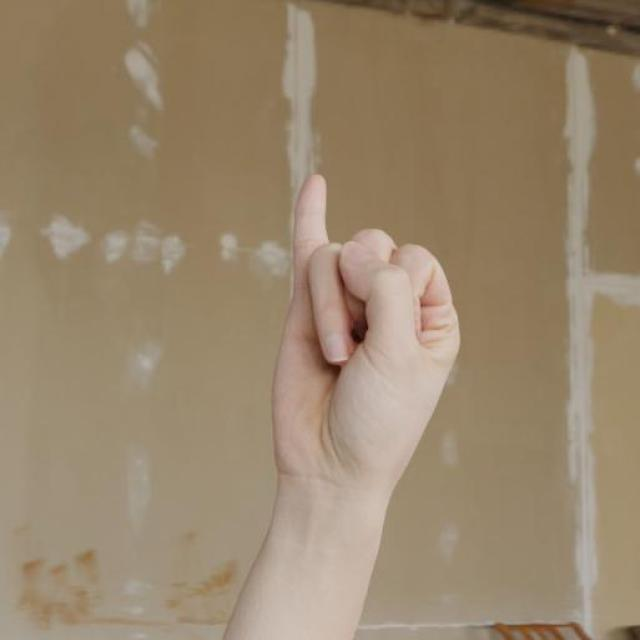I: (266, 164, 464, 488)
